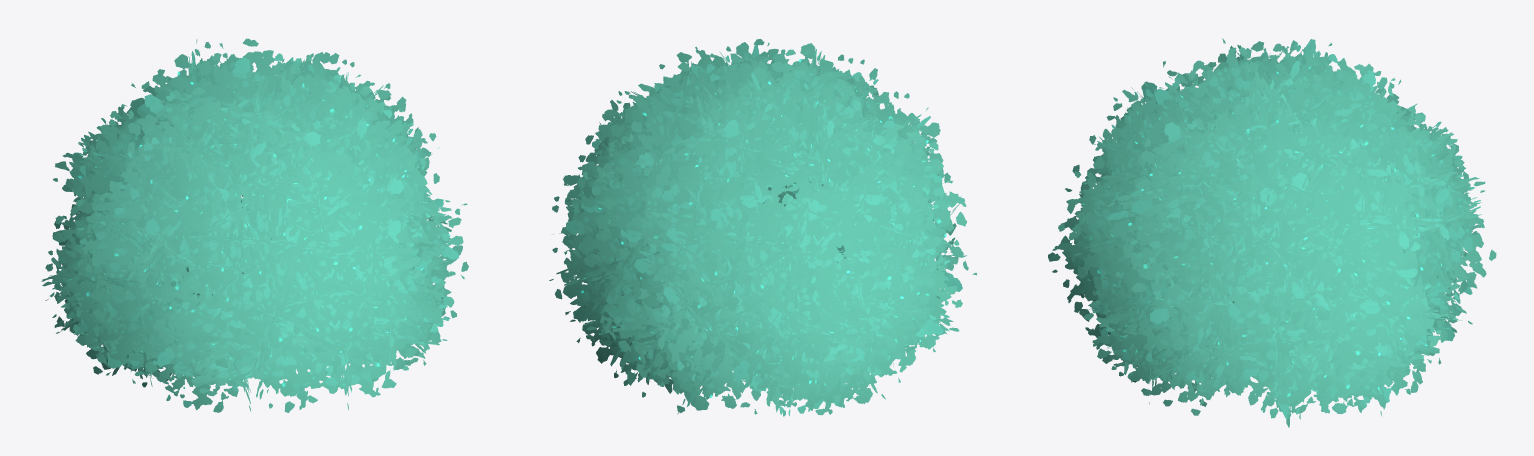
File: SM_ENV_bush_ancient_01.fbx
3 renders of one model, left to right at view 1: azimuth 30°, elevation 25°; view 2: azimuth 150°, elevation 25°; view 3: azimuth 270°, elevation 25°, orthographic. The views are drawn at different scales.
Parts seen in each view (by area): view 1: SM_ENV_bush_ancient_01_LOD0; view 2: SM_ENV_bush_ancient_01_LOD0; view 3: SM_ENV_bush_ancient_01_LOD0.
Part boxes in pixels (bbox=[...]): SM_ENV_bush_ancient_01_LOD0: bbox=[41, 38, 468, 412]; SM_ENV_bush_ancient_01_LOD0: bbox=[549, 39, 976, 416]; SM_ENV_bush_ancient_01_LOD0: bbox=[1048, 38, 1496, 427].
Bounding box in the file's own units: 220 × 185 × 226.
